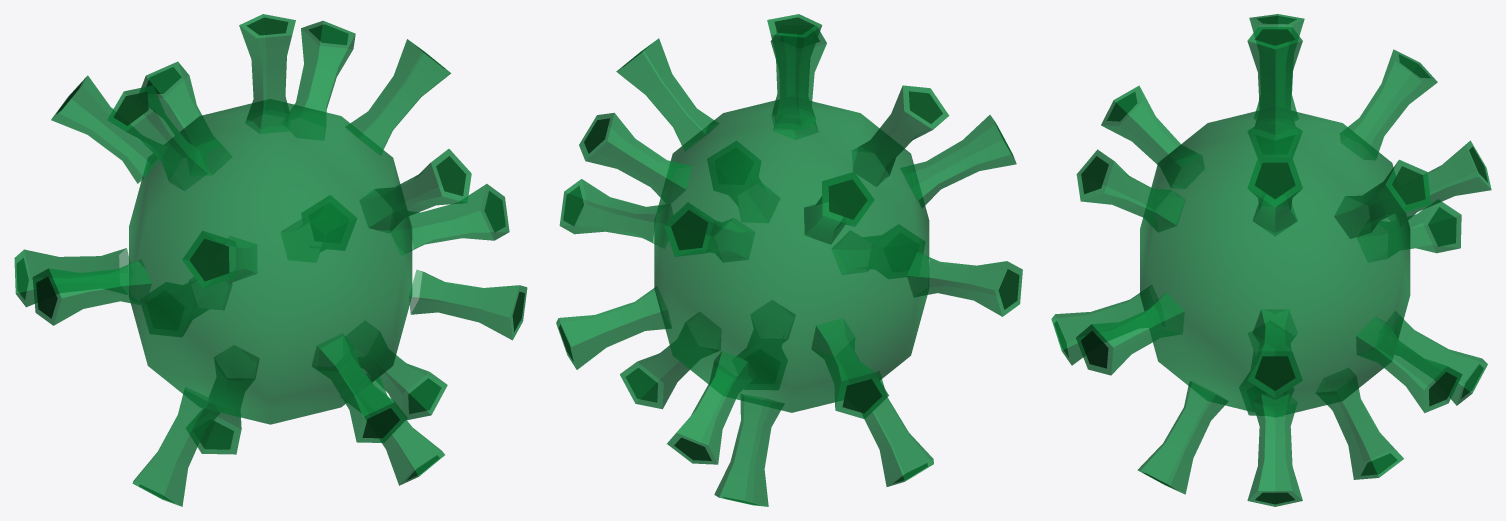
The picture shows the model from 3 angles, left to right: view 1: azimuth 30°, elevation 25°; view 2: azimuth 150°, elevation 25°; view 3: azimuth 270°, elevation 25°; orthographic projection. The views are drawn at different scales.
Parts seen in each view (by area): view 1: pSphere2; view 2: pSphere2; view 3: pSphere2.
Boxes of the visible parts, x1,y1,x2,y2 form: pSphere2: [14, 14, 527, 506]; pSphere2: [556, 14, 1022, 506]; pSphere2: [1051, 14, 1491, 506].
Bounding box in the file's own units: 3.19 × 3.1 × 2.82.
